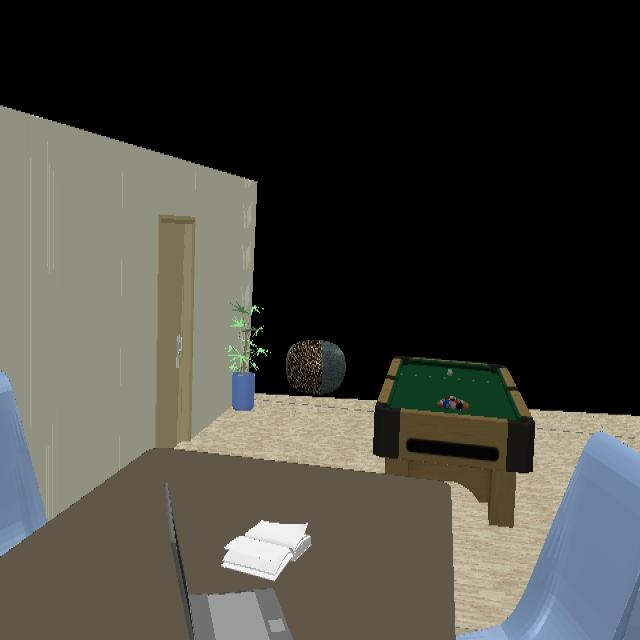book: (216, 520, 313, 589)
chair: (457, 432, 640, 640), (0, 393, 47, 556)
laptop: (163, 483, 295, 640)
table: (0, 448, 456, 640)
